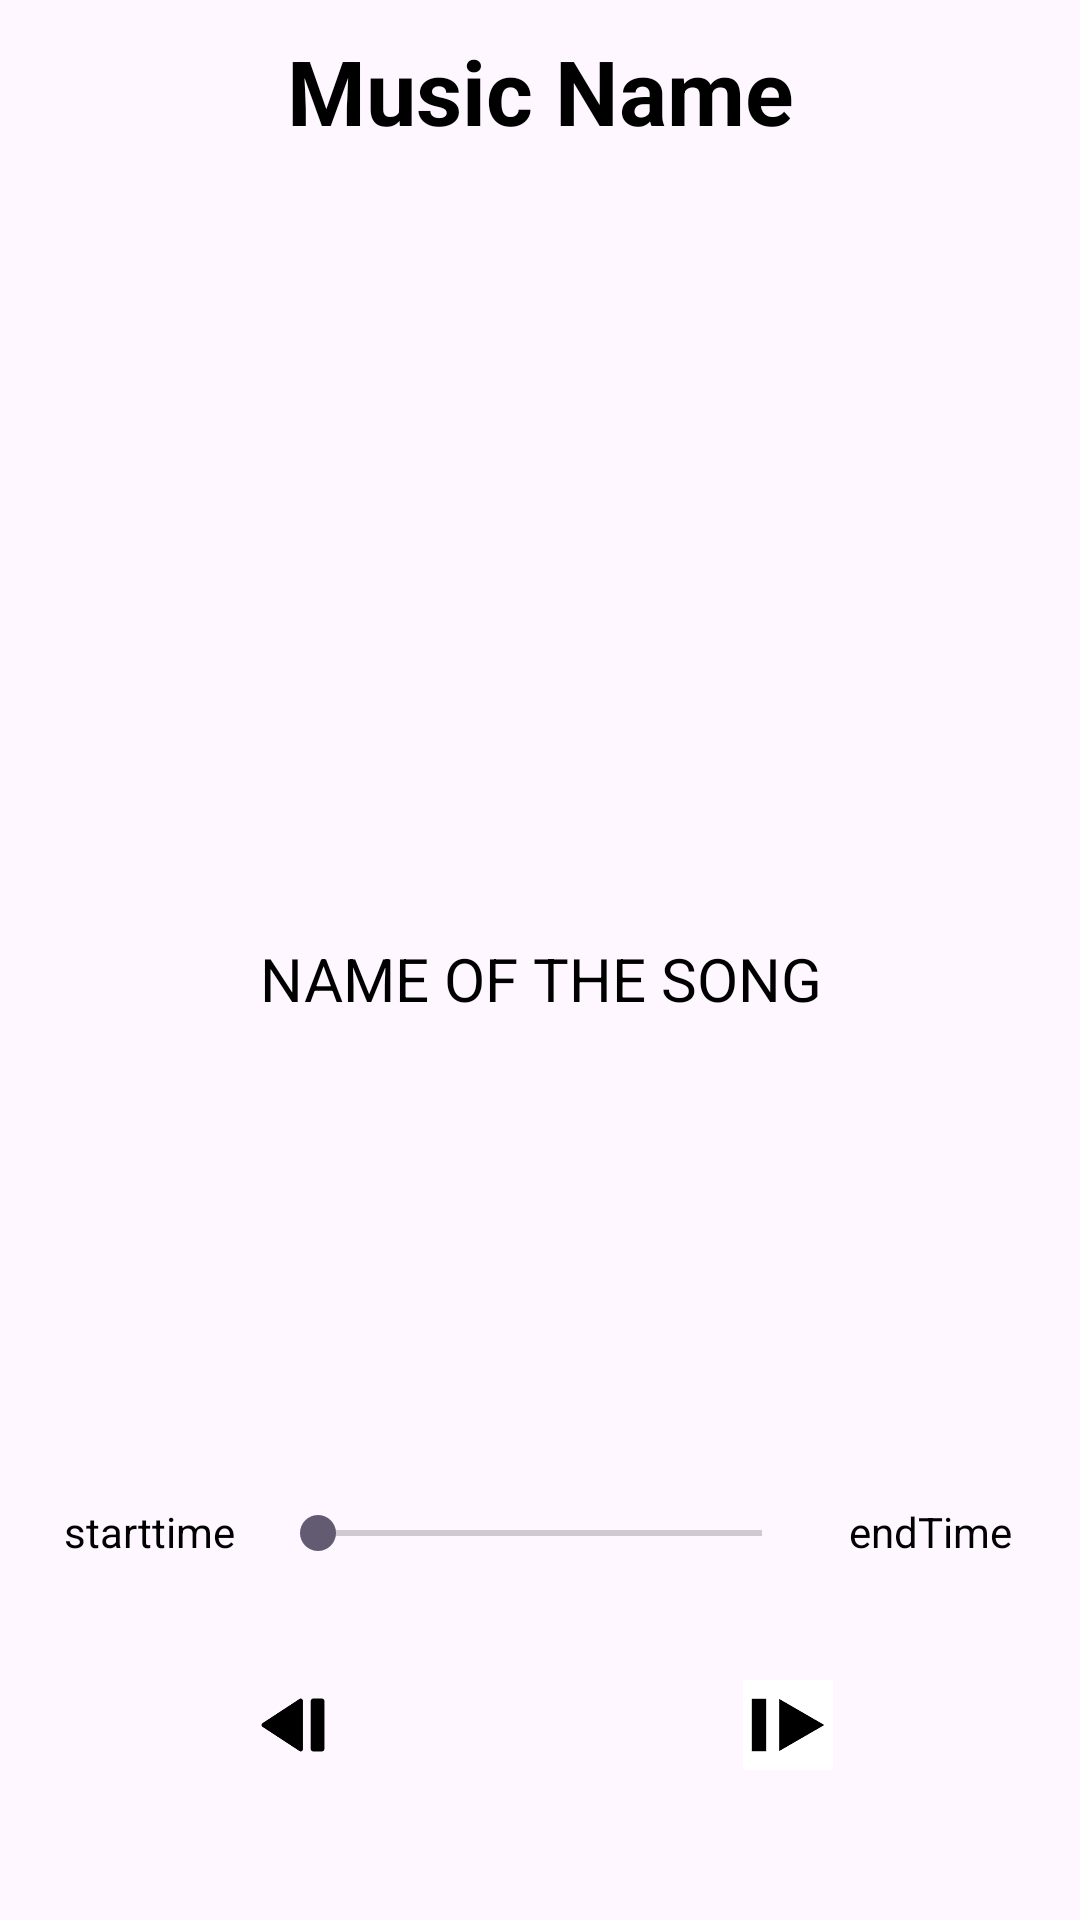

Screen size 1080×1920. Icon name, then its box in pixels as (x1, y1, x2, y2):
play backward: (261, 1698, 325, 1752)
play forward: (751, 1698, 824, 1752)
